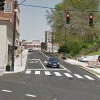crosswalk: (25, 68, 95, 80)
